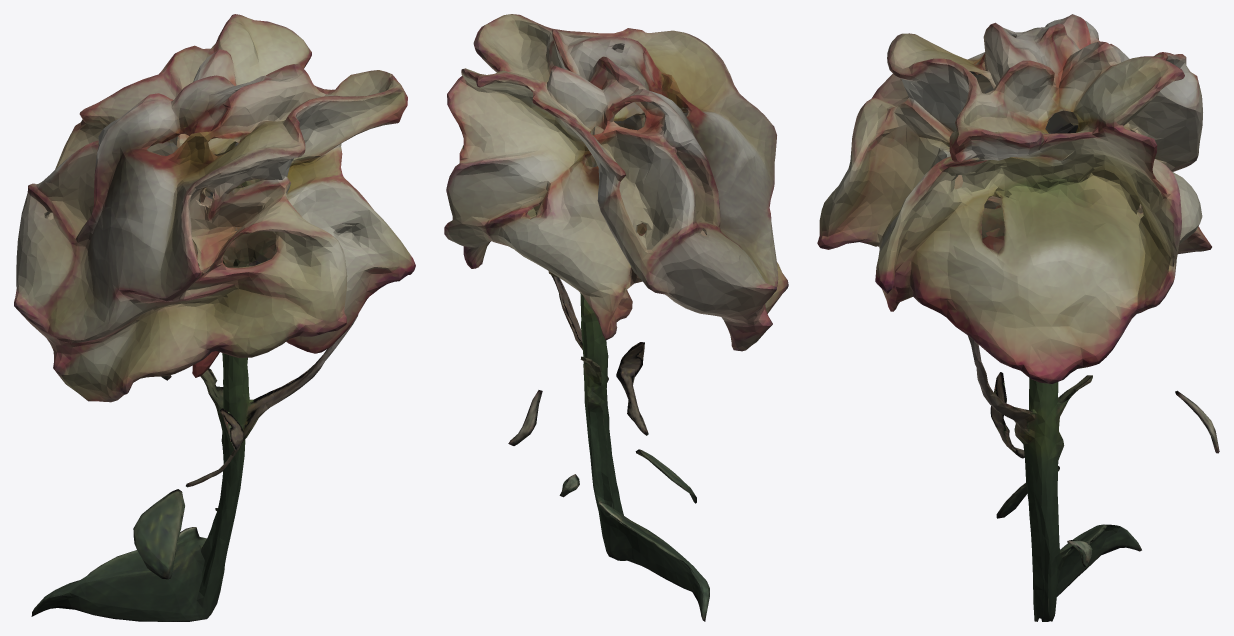
3 renders of one model, left to right at view 1: azimuth 30°, elevation 25°; view 2: azimuth 150°, elevation 25°; view 3: azimuth 270°, elevation 25°, orthographic. The views are drawn at different scales.
Parts seen in each view (by area): view 1: world; view 2: world; view 3: world.
Part boxes in pixels (x1,y1,x2,y2): world: (14, 14, 415, 621); world: (444, 14, 788, 621); world: (817, 14, 1219, 621).
Size of the model in its own units: 0.627 by 0.933 by 0.56.
Materials: 1 (1 with a texture image).
